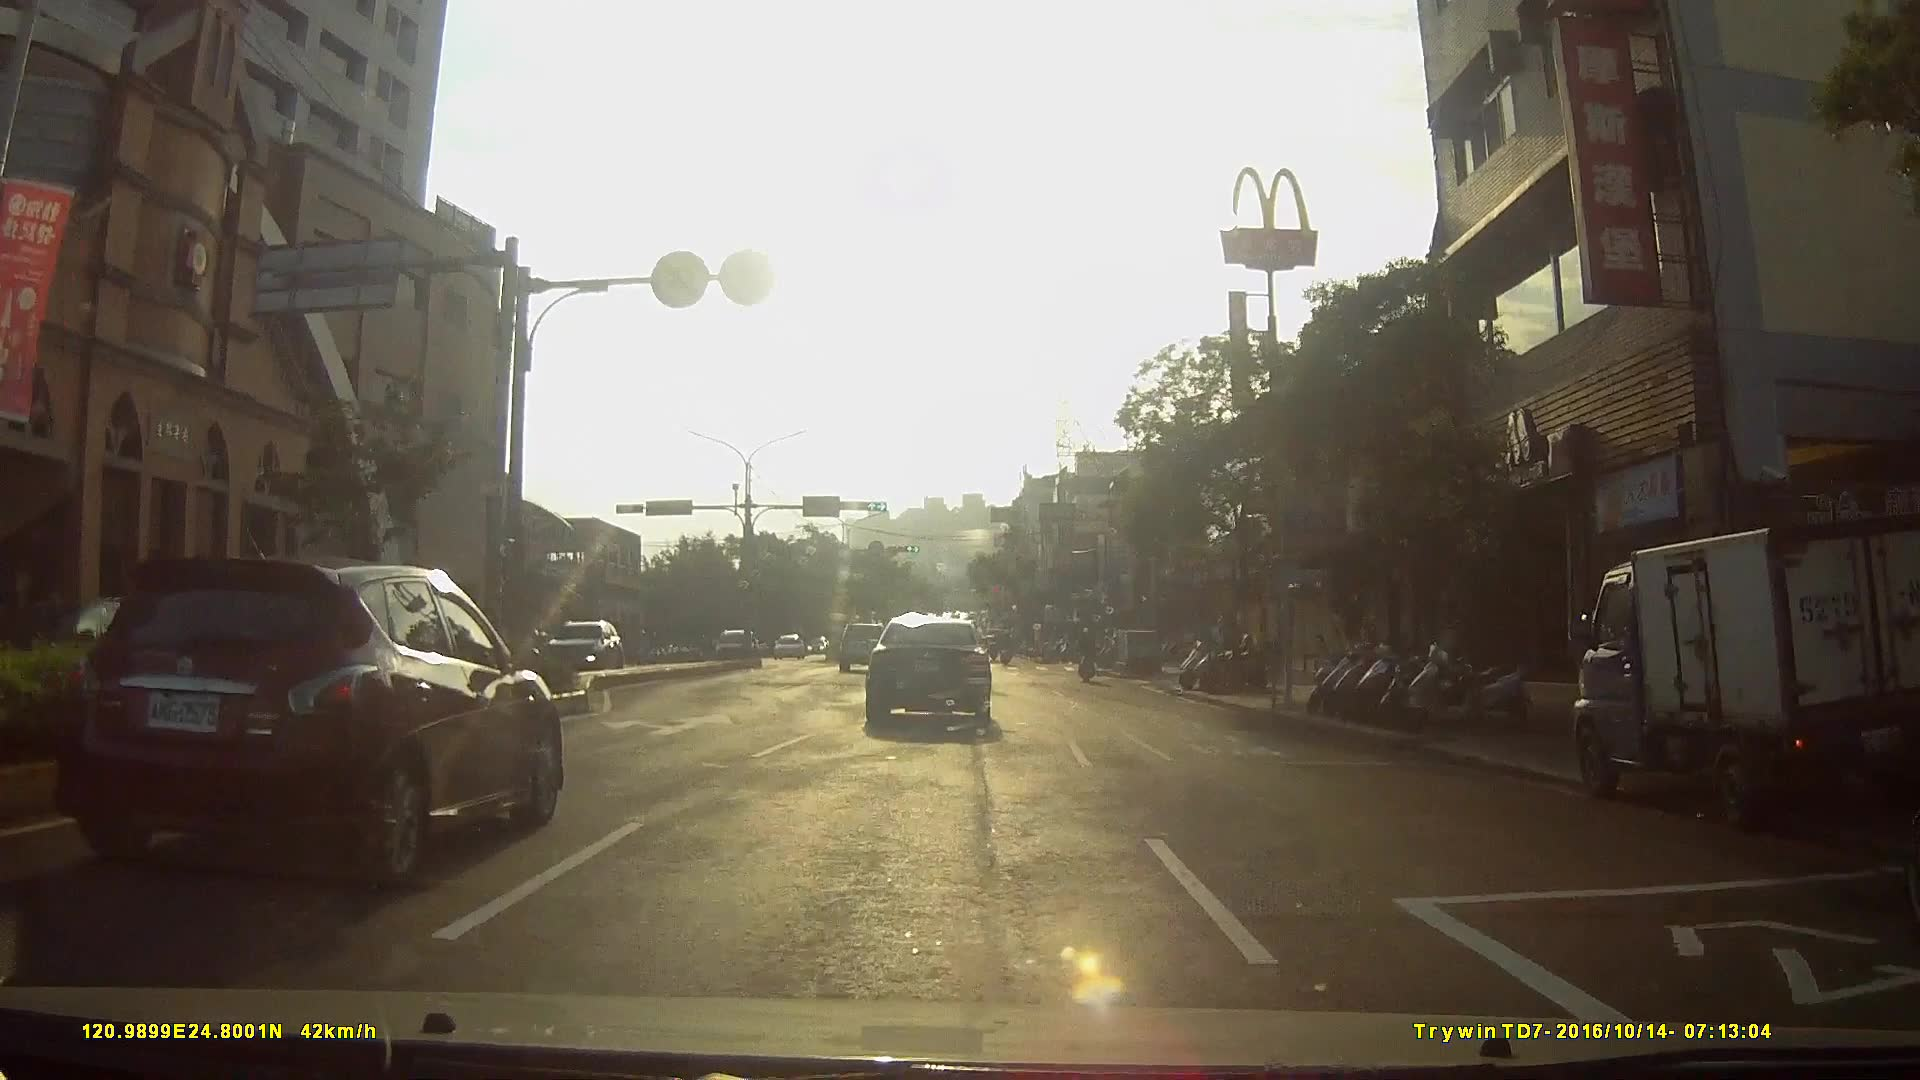rider: (1075, 623, 1100, 685)
vehicle: (45, 548, 573, 887), (1563, 516, 1902, 827), (857, 611, 999, 737), (531, 615, 626, 678), (834, 619, 892, 674), (703, 626, 762, 665), (766, 632, 812, 662)
